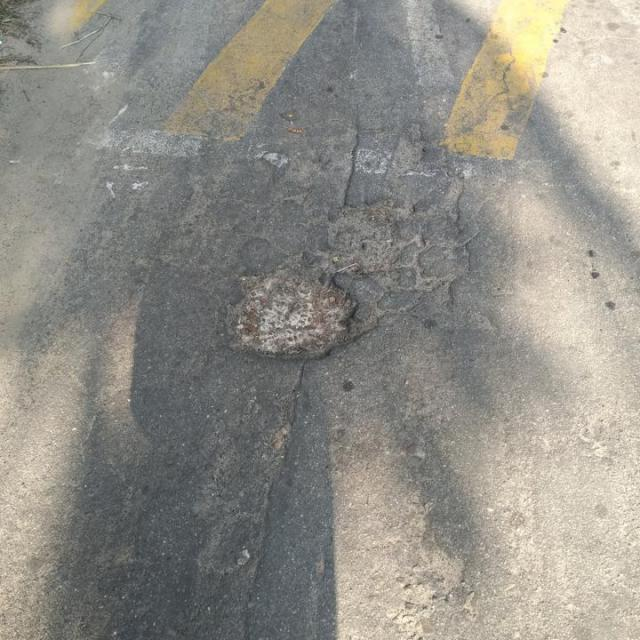Pothole: (228, 257, 359, 362), (324, 201, 438, 306)
